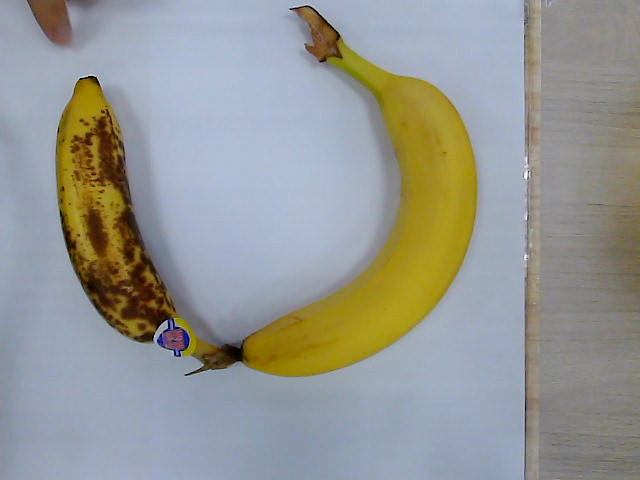fresh_banana: (244, 6, 479, 379)
rotten_banana: (54, 73, 240, 371)
